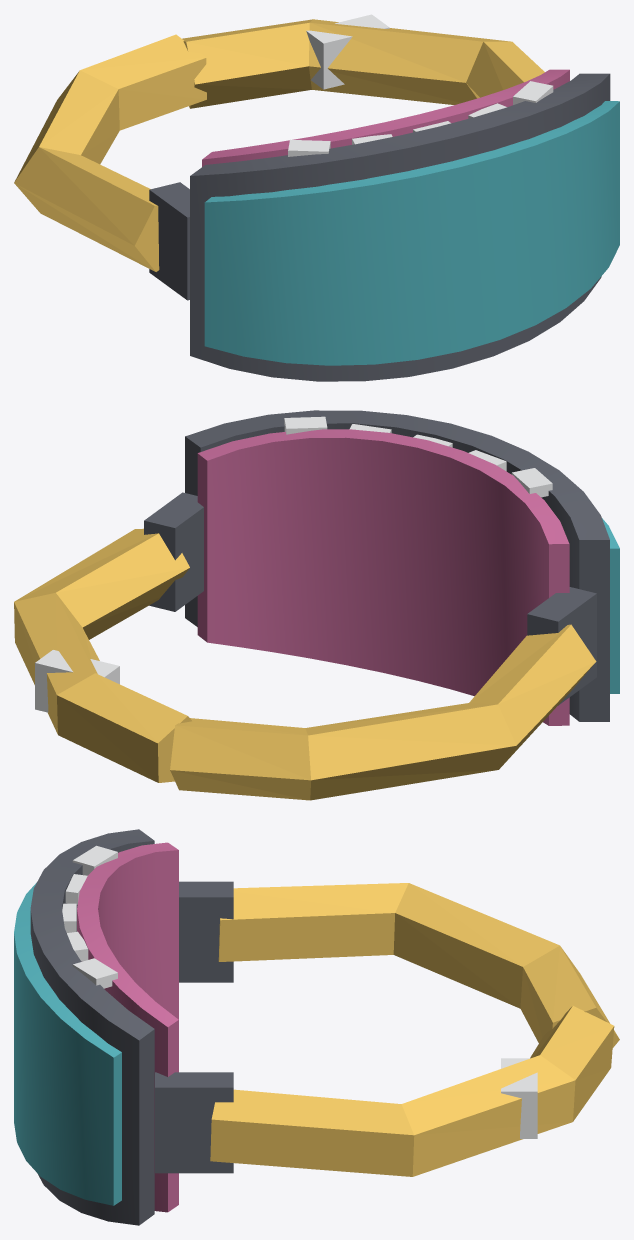
File: snowboard-gear-and-freestyle-riders-goggles-60d82137__27153.glb
The picture shows the model from 3 angles, top to bottom: view 1: azimuth 30°, elevation 25°; view 2: azimuth 150°, elevation 25°; view 3: azimuth 270°, elevation 25°; orthographic projection. The views are drawn at different scales.
Visible parts, largest first — view 1: goggles; view 2: goggles; view 3: goggles.
Boxes of the visible parts, bbox=[...] form: goggles: bbox=[14, 14, 619, 381]; goggles: bbox=[14, 410, 619, 800]; goggles: bbox=[14, 829, 619, 1225].
Size of the model in its own units: 0.2259 by 0.1 by 0.2314.
